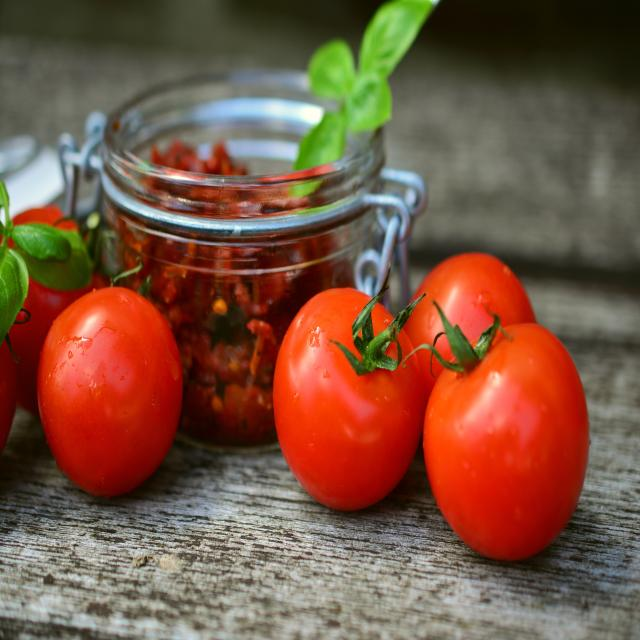Tomato: (425, 298, 584, 558), (275, 290, 414, 518)
